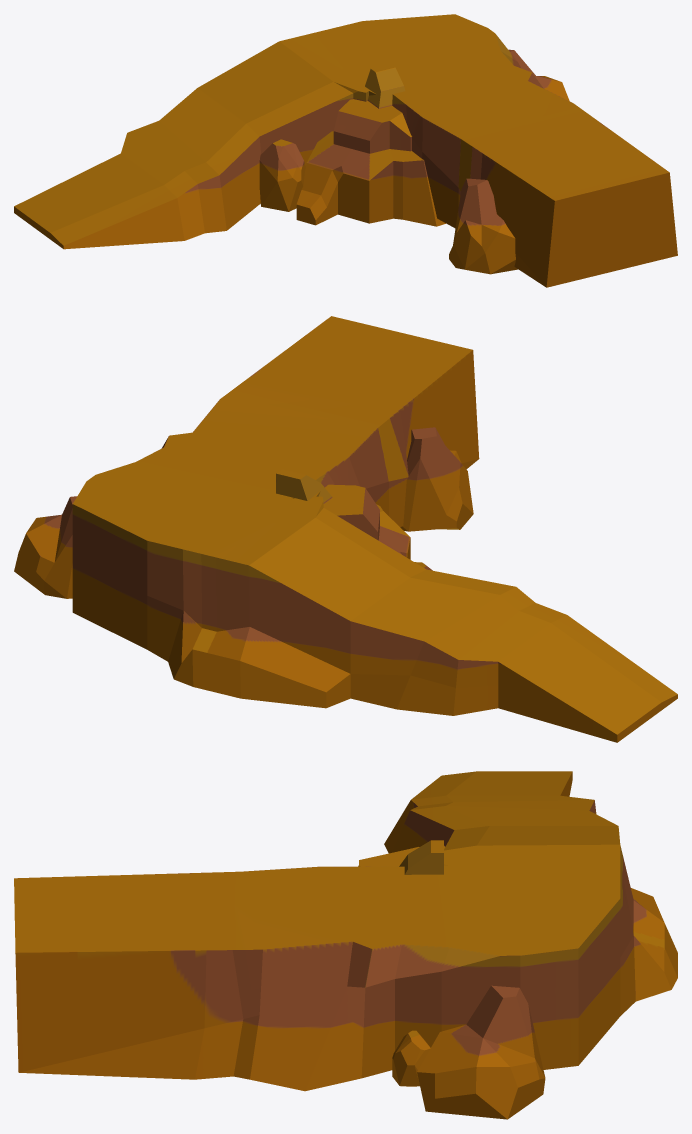
The model's file is rampa_04.fbx.
3 renders of one model, top to bottom at view 1: azimuth 30°, elevation 25°; view 2: azimuth 150°, elevation 25°; view 3: azimuth 270°, elevation 25°, orthographic. The views are drawn at different scales.
Parts seen in each view (by area): view 1: Icosphere.005; view 2: Icosphere.005; view 3: Icosphere.005.
Boxes of the visible parts, x1=… form: Icosphere.005: x1=14, y1=14, x2=677, y2=287; Icosphere.005: x1=14, y1=316, x2=677, y2=742; Icosphere.005: x1=14, y1=771, x2=677, y2=1119.
Bounding box in the file's own units: 3313 × 713 × 2783.
